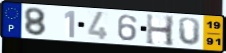0: (177, 16, 202, 47)
1: (63, 10, 76, 39)
4: (86, 10, 110, 42)
6: (117, 13, 139, 42)
8: (23, 6, 48, 38)
H: (145, 12, 176, 47)
